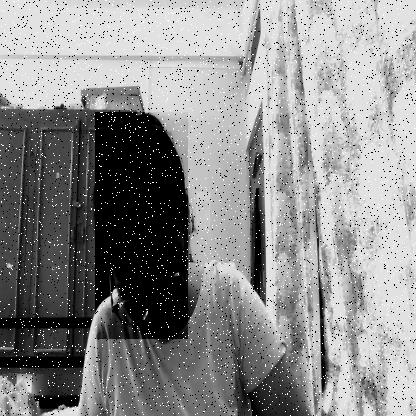Distracted: (95, 112, 188, 339)
